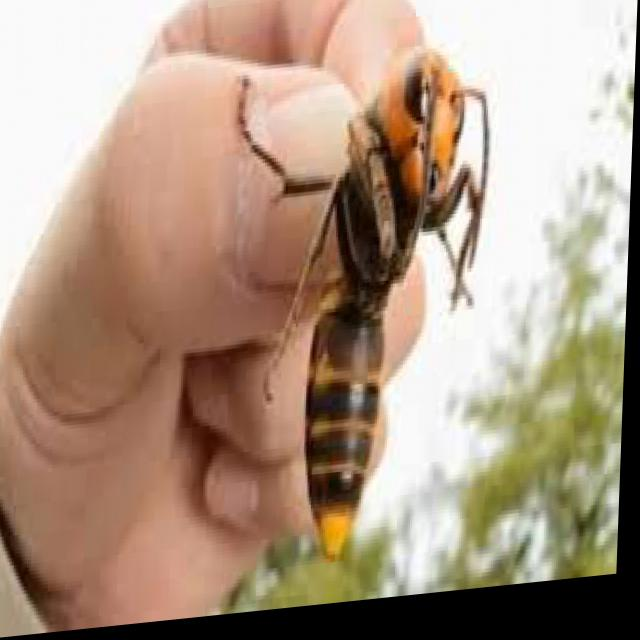Vespa Velutina: (209, 32, 503, 596)
